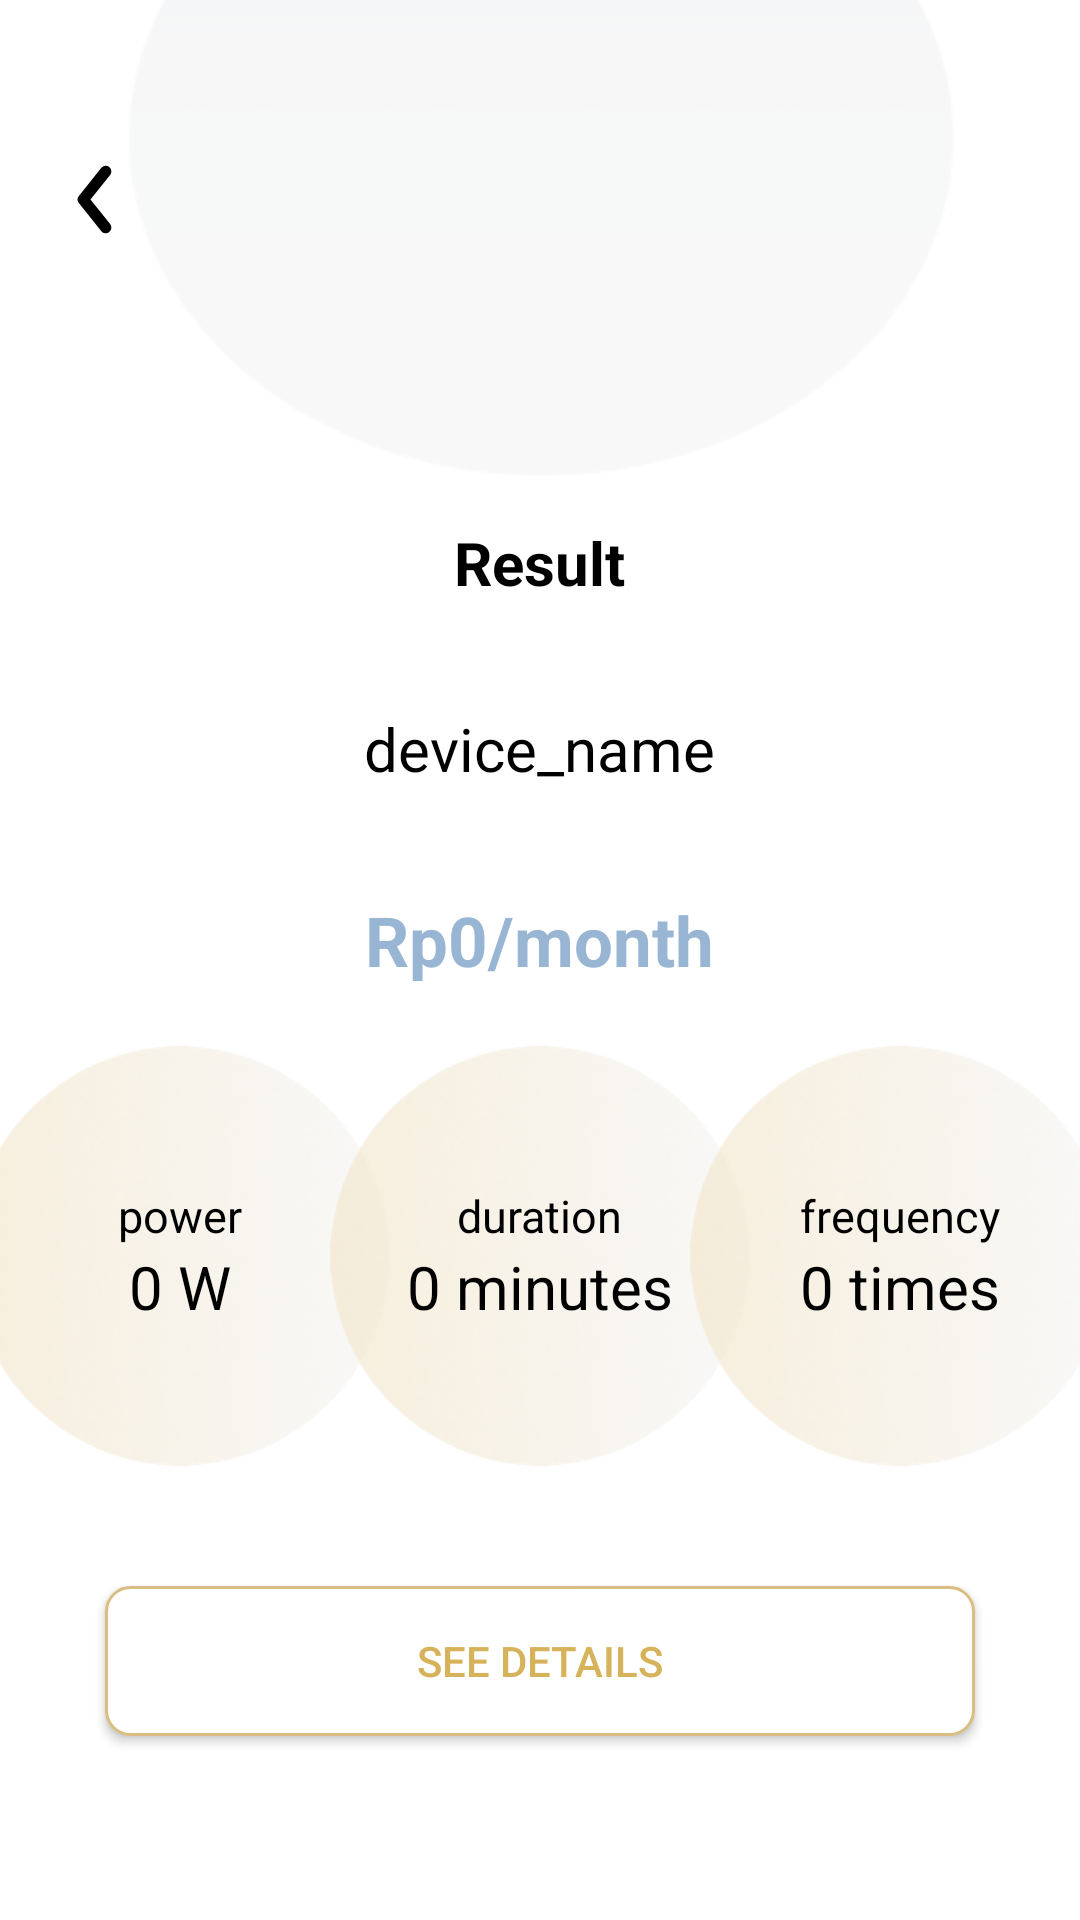

Icon bounding boxes for this 1080*1920 phone screenshot, format detection(x1, y1, x2, y2):
back arrow: detection(77, 165, 112, 234)
